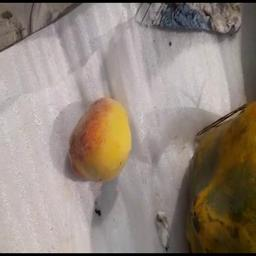Peach Fresh: (53, 82, 147, 192)
